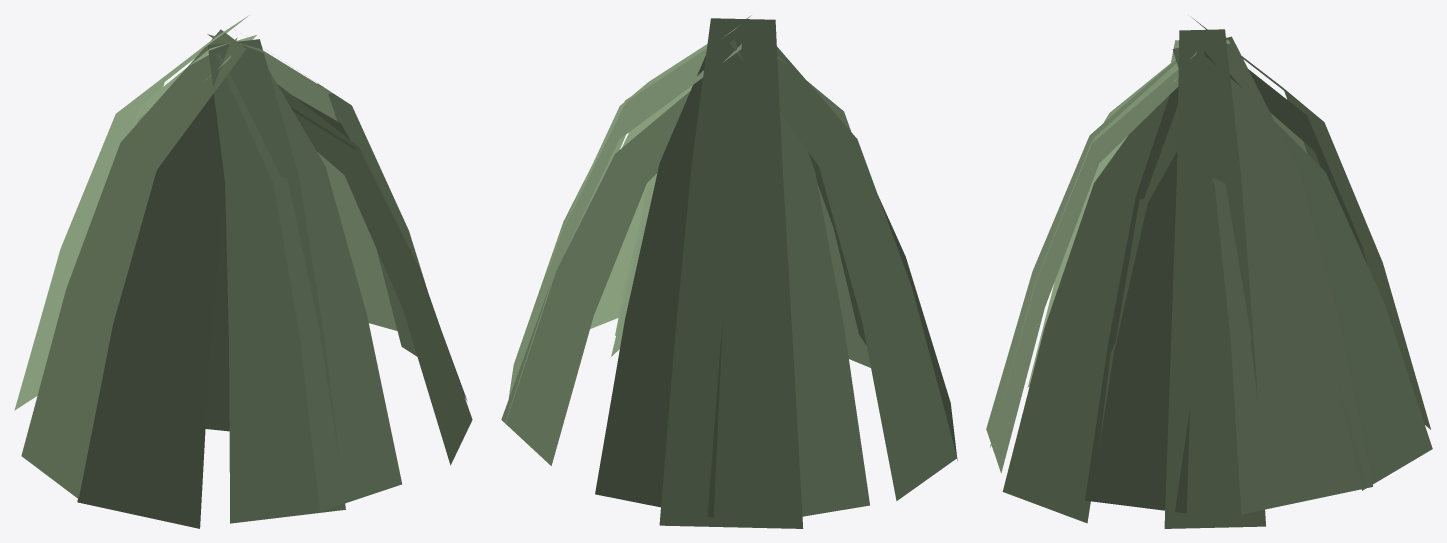
The model's file is casuarina_tier.glb.
3 views of the same model, side by side, from view 1: azimuth 30°, elevation 25°; view 2: azimuth 150°, elevation 25°; view 3: azimuth 270°, elevation 25° (orthographic). The views are drawn at different scales.
Visible parts, largest first — view 1: casuarina_tier; view 2: casuarina_tier; view 3: casuarina_tier.
Part boxes in pixels (box(x1,y1,x2,y2)): casuarina_tier: box(14, 15, 472, 528); casuarina_tier: box(501, 15, 957, 528); casuarina_tier: box(986, 16, 1432, 528).
Bounding box in the file's own units: 1 × 1.01 × 0.969.
